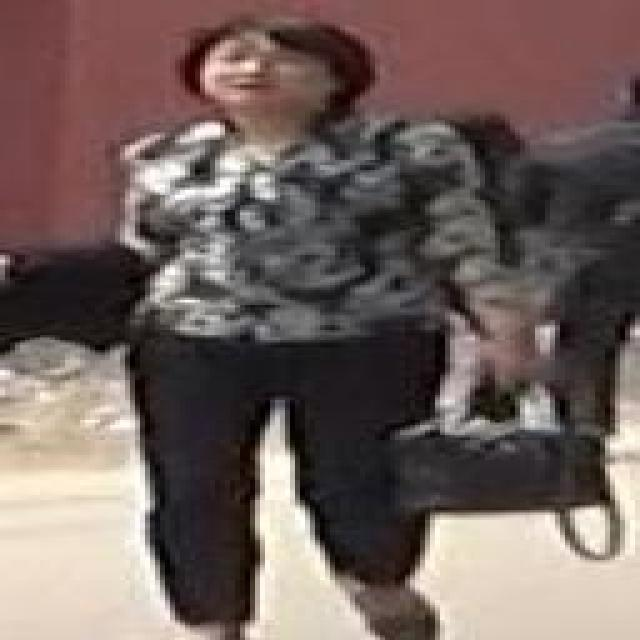adult: (84, 19, 548, 634)
